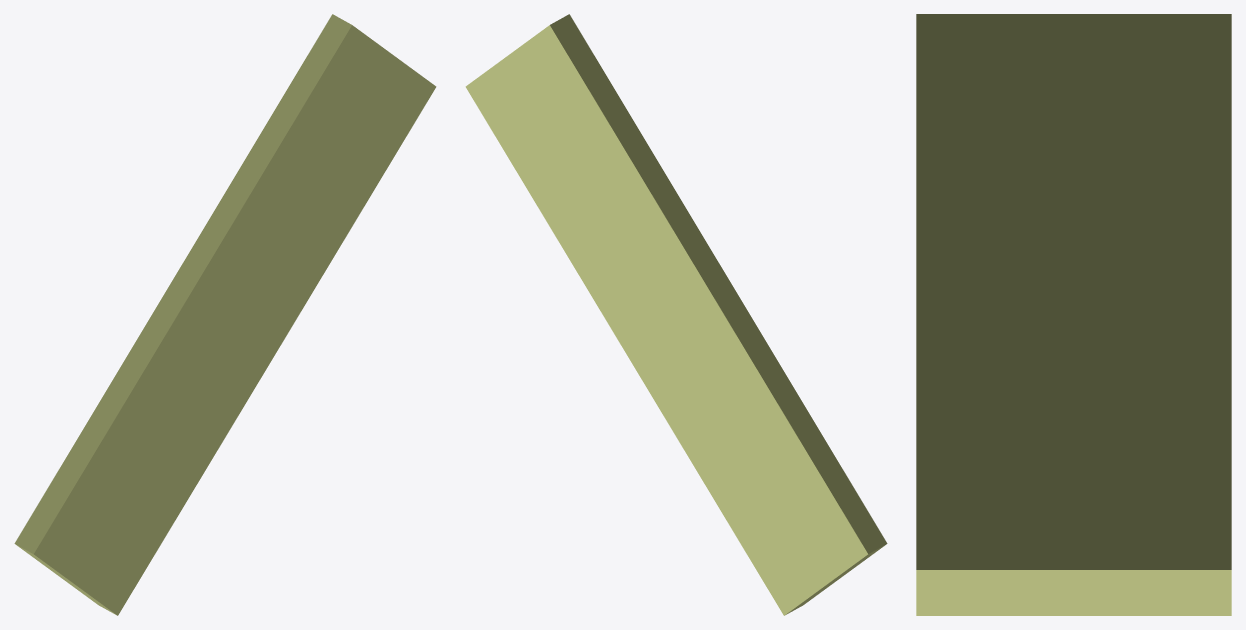
3 renders of one model, left to right at view 1: azimuth 30°, elevation 25°; view 2: azimuth 150°, elevation 25°; view 3: azimuth 270°, elevation 25°, orthographic. The views are drawn at different scales.
Visible parts, largest first — view 1: 0_2_3_2_2_3_1_3_1_3; view 2: 0_2_3_2_2_3_1_3_1_3; view 3: 0_2_3_2_2_3_1_3_1_3.
Part boxes in pixels (x1,y1,x2,y2): 0_2_3_2_2_3_1_3_1_3: (14,14,436,615); 0_2_3_2_2_3_1_3_1_3: (465,14,887,615); 0_2_3_2_2_3_1_3_1_3: (916,14,1231,615).
Bounding box in the file's own units: 13.88 × 18.36 × 6.
